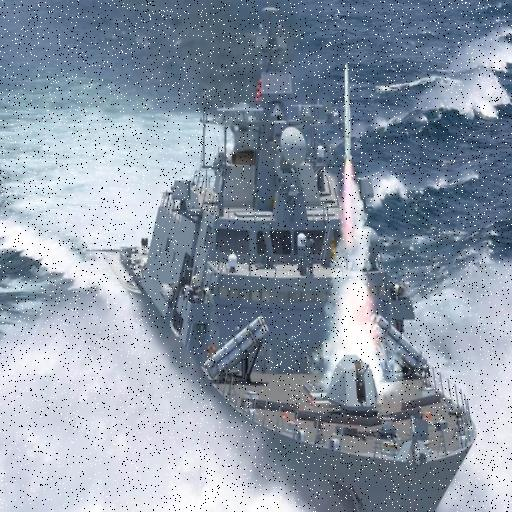Fragata: (91, 1, 486, 512)
